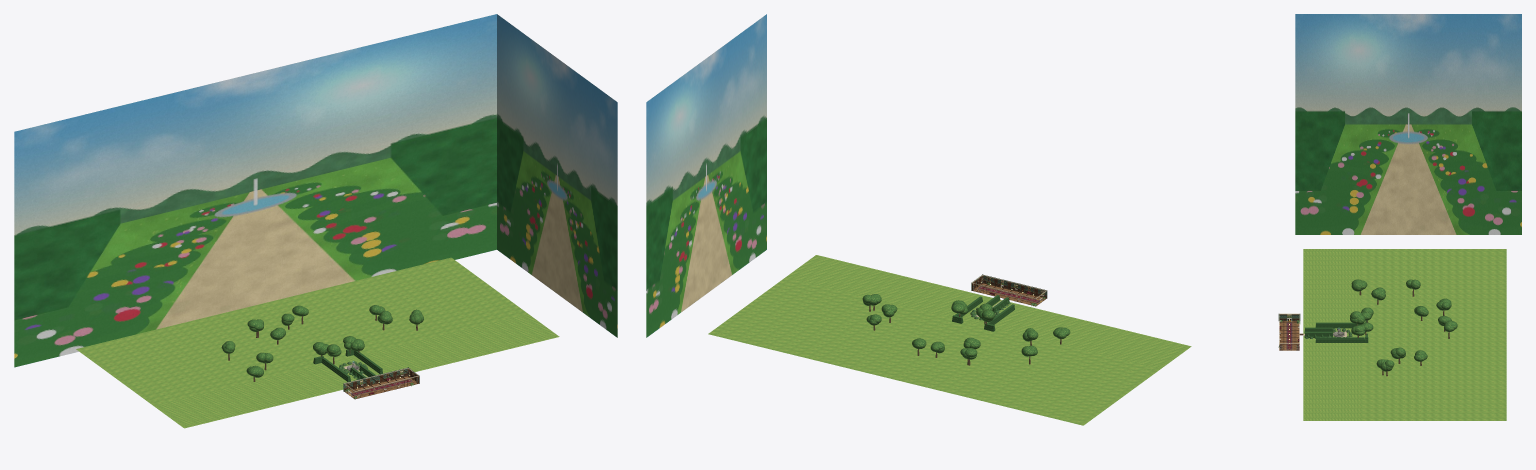
Rendered from ch1_s5_hall.glb.
3 renders of one model, left to right at view 1: azimuth 30°, elevation 25°; view 2: azimuth 150°, elevation 25°; view 3: azimuth 270°, elevation 25°, orthographic. The views are drawn at different scales.
Parts seen in each view (by area): view 1: S5_G_sky, S5_G_lawn, S5_G_leaf, S5_G_hedge, S5_Wood; view 2: S5_G_lawn, S5_G_sky, S5_G_leaf, S5_G_hedge, S5_Wood; view 3: S5_G_sky, S5_G_lawn, S5_G_leaf, S5_G_hedge, S5_Parquet, S5_Wood.
Part boxes in pixels (bbox=[...]): S5_G_sky: bbox=[14, 14, 617, 367]; S5_G_lawn: bbox=[76, 257, 559, 428]; S5_G_leaf: bbox=[221, 305, 423, 377]; S5_G_hedge: bbox=[313, 349, 382, 381]; S5_Wood: bbox=[344, 369, 418, 399]; S5_G_lawn: bbox=[708, 255, 1191, 425]; S5_G_sky: bbox=[646, 14, 766, 337]; S5_G_leaf: bbox=[862, 294, 1070, 359]; S5_G_hedge: bbox=[952, 295, 1014, 331]; S5_Wood: bbox=[972, 276, 1046, 306]; S5_G_sky: bbox=[1295, 14, 1521, 234]; S5_G_lawn: bbox=[1303, 249, 1506, 420]; S5_G_leaf: bbox=[1350, 279, 1457, 371]; S5_G_hedge: bbox=[1304, 320, 1368, 342]; S5_Parquet: bbox=[1279, 321, 1299, 350]; S5_Wood: bbox=[1279, 314, 1299, 350].
Bounding box in the file's own units: 180 × 84 × 83.93.
29 materials, 26 textured.
